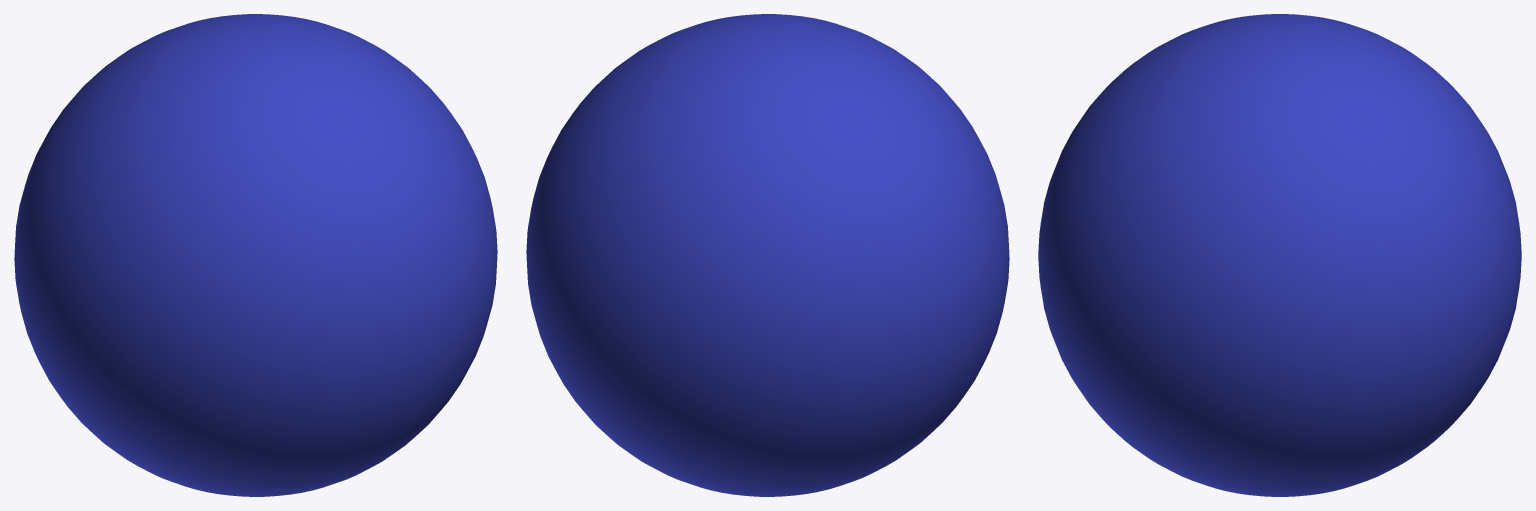
File: bomb_explosion.glb
3 renders of one model, left to right at view 1: azimuth 30°, elevation 25°; view 2: azimuth 150°, elevation 25°; view 3: azimuth 270°, elevation 25°, orthographic.
Parts seen in each view (by area): view 1: Bomb_Explosion; view 2: Bomb_Explosion; view 3: Bomb_Explosion.
Boxes of the visible parts, <box> form: Bomb_Explosion: <box>14,14,497,496</box>; Bomb_Explosion: <box>526,14,1009,496</box>; Bomb_Explosion: <box>1038,14,1521,496</box>.
Bounding box in the file's own units: 2 × 2 × 2.
